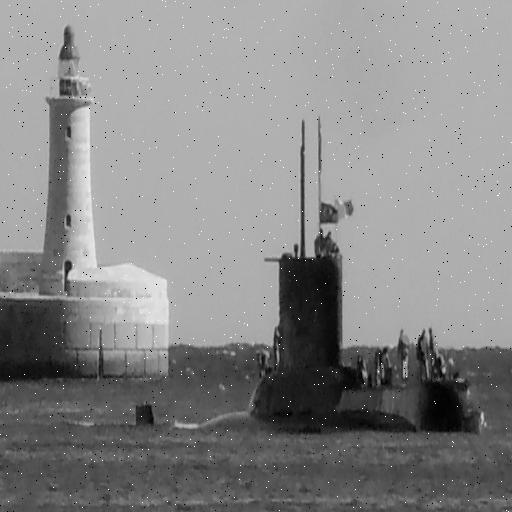submarine: (224, 110, 486, 433)
